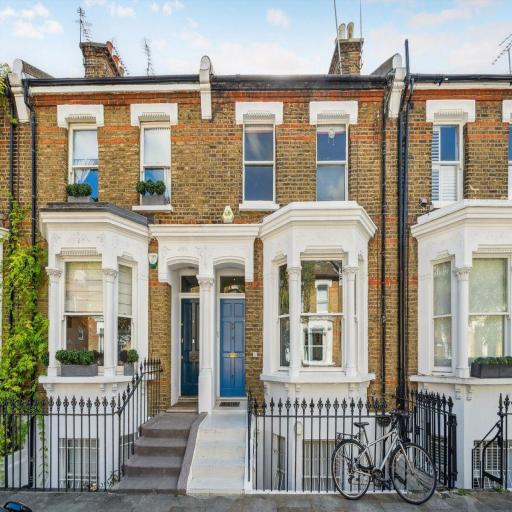door: (216, 294, 249, 410)
